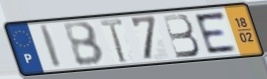7: (130, 14, 160, 63)
B: (61, 20, 107, 68), (160, 13, 202, 60)
E: (192, 10, 239, 56)
I: (38, 23, 64, 70)
T: (98, 17, 128, 65)
